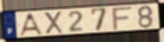2: (68, 10, 86, 33)
7: (89, 7, 108, 33)
8: (137, 5, 154, 29)
A: (18, 12, 45, 37)
F: (111, 6, 134, 32)
X: (42, 10, 64, 35)
